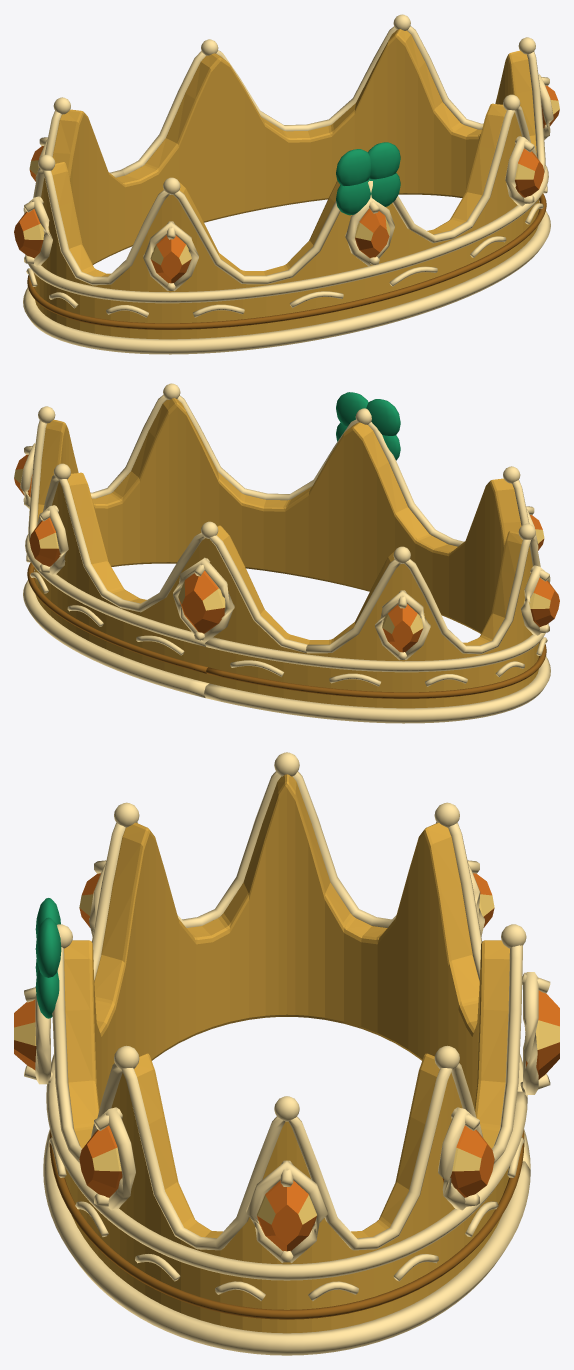
Rendered from luck_crown.fbx.
The picture shows the model from 3 angles, top to bottom: view 1: azimuth 30°, elevation 25°; view 2: azimuth 150°, elevation 25°; view 3: azimuth 270°, elevation 25°; orthographic projection. The views are drawn at different scales.
Visible parts, largest first — view 1: luck_crown_armor; view 2: luck_crown_armor; view 3: luck_crown_armor.
Boxes of the visible parts, left/top/right/bottom form: luck_crown_armor: left=14, top=14, right=559, bottom=354; luck_crown_armor: left=14, top=383, right=559, bottom=723; luck_crown_armor: left=14, top=752, right=559, bottom=1355.
Size of the model in its own units: 3.88 by 1.27 by 2.34.
1 material, 1 textured.
